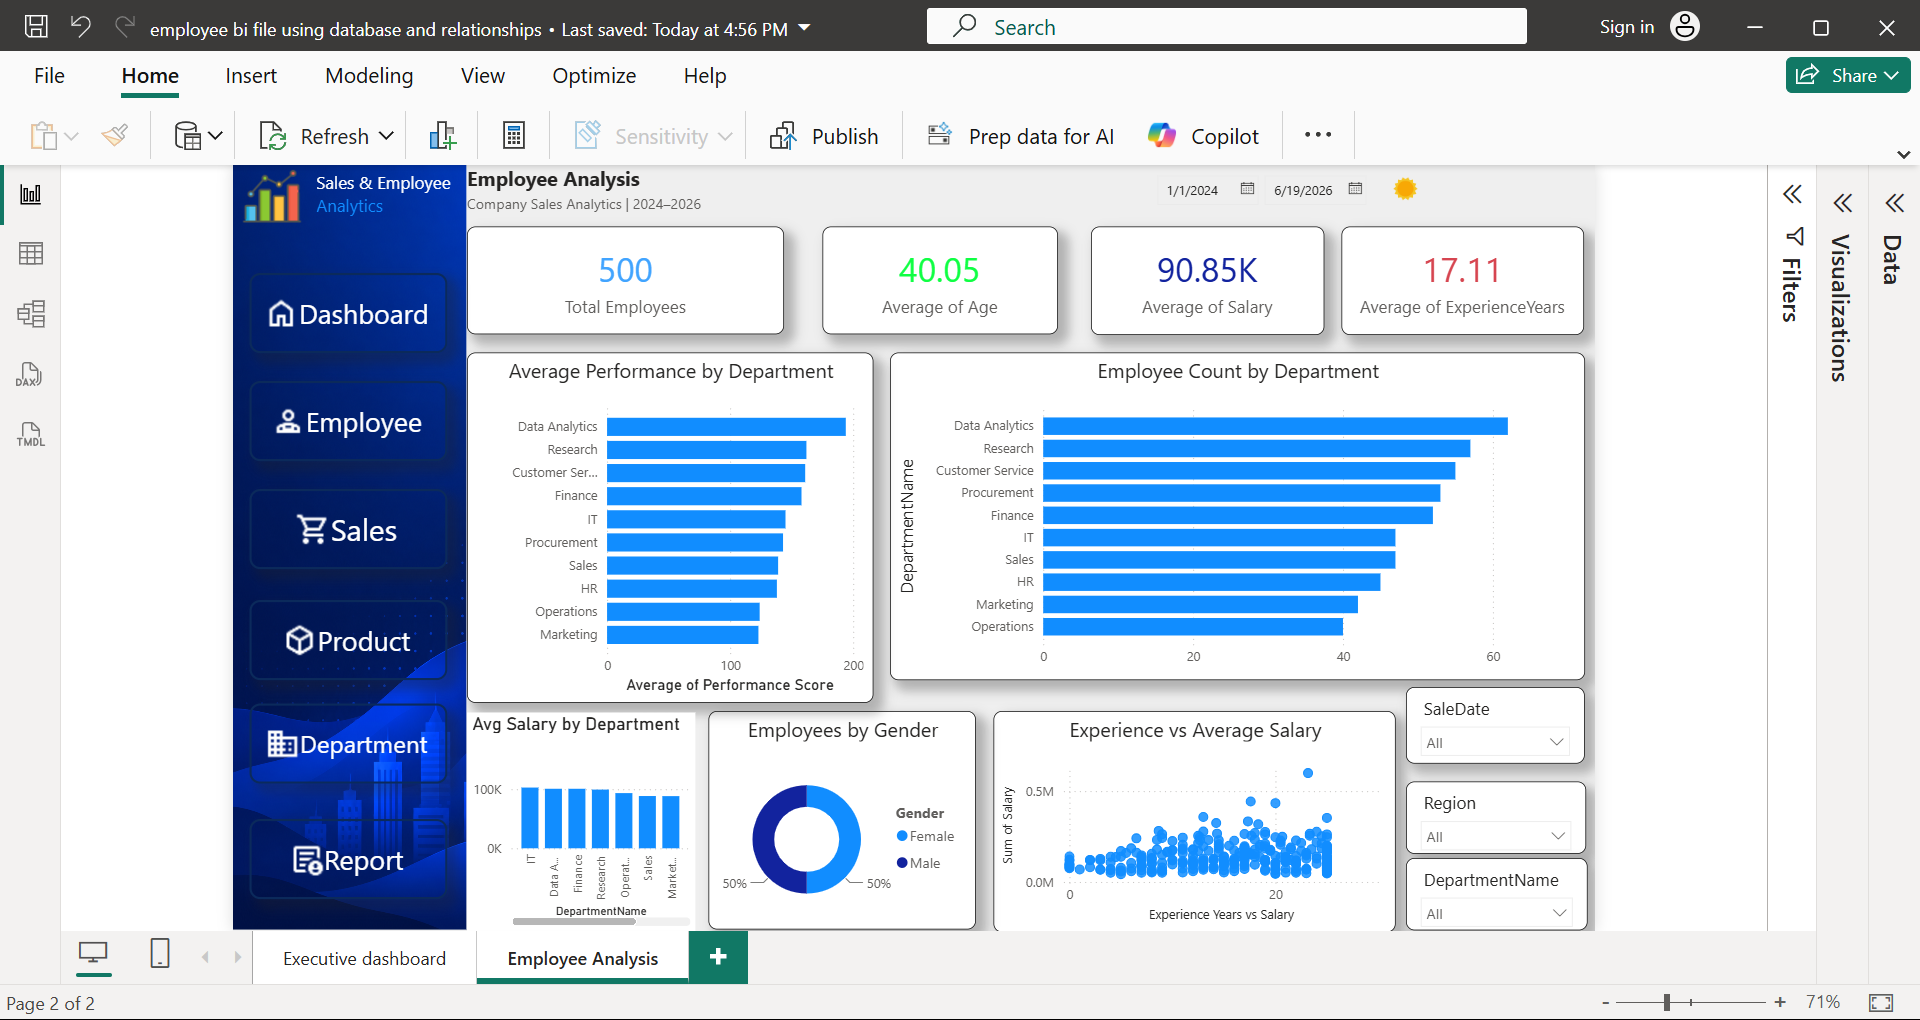

What the dashboard file says about the page in this screenshot:
{"tool":"powerbi","page":{"name":"Employee Analysis","canvas":[1280,720],"ordinal":1},"visuals":[{"type":"card","fields":{"Values":["CountNonNull(company_powerbi customers.CustomerID)"]},"box":[219.6,57.5,298.3,101.5],"z":0},{"type":"card","fields":{"Values":["Avg(company_powerbi employees.Age)"]},"box":[554.2,57.5,221.1,101.5],"z":1000},{"type":"card","fields":{"Values":["Avg(company_powerbi employees.Salary)"]},"box":[806.4,57.3,219.2,101.7],"z":2000},{"type":"card","fields":{"Values":["Avg(company_powerbi employees.ExperienceYears)"]},"box":[1041.3,57.3,227.8,101.7],"z":3000},{"type":"clusteredBarChart","title":"Employee Count by Department","fields":{"Category":["company_powerbi departments.DepartmentName"],"Y":["CountNonNull(company_powerbi employees.EmployeeID)"]},"box":[616.9,176.7,653.5,307.7],"z":4000},{"type":"scatterChart","title":"Experience vs Average Salary","fields":{"X":["Avg(company_powerbi employees.ExperienceYears)"],"Y":["Sum(company_powerbi employees.Salary)"],"Category":["company_powerbi employees.EmployeeName"]},"box":[714.4,513.3,378.2,207.7],"z":5000},{"type":"donutChart","title":"Employees by Gender","fields":{"Category":["company_powerbi employees.Gender"],"Y":["CountNonNull(company_powerbi employees.EmployeeID)"]},"box":[446.3,513.3,251.3,205.6],"z":6000},{"type":"slicer","fields":{"Values":["company_powerbi sales.SaleDate"]},"box":[1102.8,490.5,167.8,71.9],"z":7000},{"type":"slicer","fields":{"Values":["company_powerbi customers.Region"]},"box":[1102.6,579.5,169.2,67.7],"z":8000},{"type":"slicer","fields":{"Values":["company_powerbi departments.DepartmentName"]},"box":[1102.6,651.4,170.6,67.7],"z":9000},{"type":"image","box":[0,0,219.5,719],"z":10000},{"type":"shape","title":"Employee Analysis","box":[219.6,0,1059.9,57.5],"z":11000},{"type":"slicer","fields":{"Values":["company_powerbi sales.SaleDate"]},"box":[855.5,0,299.8,42.4],"z":12000},{"type":"image","box":[1081.6,11.1,41.4,22.3],"z":13000},{"type":"image","box":[0,0,73.2,58.9],"z":14000},{"type":"textbox","box":[73.2,0,146.3,58.9],"z":15000},{"type":"actionButton","box":[15.6,101.6,186,75],"z":16000},{"type":"actionButton","box":[15.6,203.2,186,75],"z":17000},{"type":"actionButton","box":[15.6,304.8,186,75],"z":18000},{"type":"actionButton","box":[15.6,409.5,186,75],"z":19000},{"type":"actionButton","box":[15.6,506.4,186,75],"z":20000},{"type":"actionButton","box":[15.6,614.3,186,75],"z":21000},{"type":"clusteredBarChart","title":"Average Performance by Department","fields":{"Category":["company_powerbi departments.DepartmentName"],"Y":["Sum(company_powerbi employees.PerformanceScore)"]},"box":[219.3,176.7,382.3,329],"z":22000},{"type":"clusteredColumnChart","title":"Avg Salary by Department","fields":{"Category":["company_powerbi departments.DepartmentName"],"Y":["Avg(company_powerbi employees.Salary)"]},"box":[219.3,514.8,214.8,205.6],"z":23000}]}

Visuals, with their boxes on the page's 1280x720 design canvas (x1, y1, x2, y2). These are canvas units, not pixel positions in the 1920x1020 screenshot, which may show the page scaled, cropped or inside an application window:
card - CountNonNull(company_powerbi customers.CustomerID): [x1=220, y1=58, x2=518, y2=159]
card - Avg(company_powerbi employees.Age): [x1=554, y1=58, x2=775, y2=159]
card - Avg(company_powerbi employees.Salary): [x1=806, y1=57, x2=1026, y2=159]
card - Avg(company_powerbi employees.ExperienceYears): [x1=1041, y1=57, x2=1269, y2=159]
"Employee Count by Department" clusteredBarChart: [x1=617, y1=177, x2=1270, y2=484]
"Experience vs Average Salary" scatterChart: [x1=714, y1=513, x2=1093, y2=721]
"Employees by Gender" donutChart: [x1=446, y1=513, x2=698, y2=719]
slicer - company_powerbi sales.SaleDate: [x1=1103, y1=490, x2=1271, y2=562]
slicer - company_powerbi customers.Region: [x1=1103, y1=580, x2=1272, y2=647]
slicer - company_powerbi departments.DepartmentName: [x1=1103, y1=651, x2=1273, y2=719]
image: [x1=0, y1=0, x2=220, y2=719]
"Employee Analysis" shape: [x1=220, y1=0, x2=1280, y2=58]
slicer - company_powerbi sales.SaleDate: [x1=856, y1=0, x2=1155, y2=42]
image: [x1=1082, y1=11, x2=1123, y2=33]
image: [x1=0, y1=0, x2=73, y2=59]
textbox: [x1=73, y1=0, x2=220, y2=59]
actionButton: [x1=16, y1=102, x2=202, y2=177]
actionButton: [x1=16, y1=203, x2=202, y2=278]
actionButton: [x1=16, y1=305, x2=202, y2=380]
actionButton: [x1=16, y1=410, x2=202, y2=484]
actionButton: [x1=16, y1=506, x2=202, y2=581]
actionButton: [x1=16, y1=614, x2=202, y2=689]
"Average Performance by Department" clusteredBarChart: [x1=219, y1=177, x2=602, y2=506]
"Avg Salary by Department" clusteredColumnChart: [x1=219, y1=515, x2=434, y2=720]
